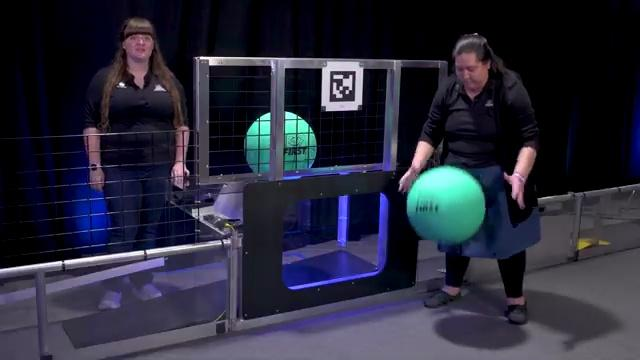ALGAE: (405, 164, 486, 245), (243, 108, 317, 176)
